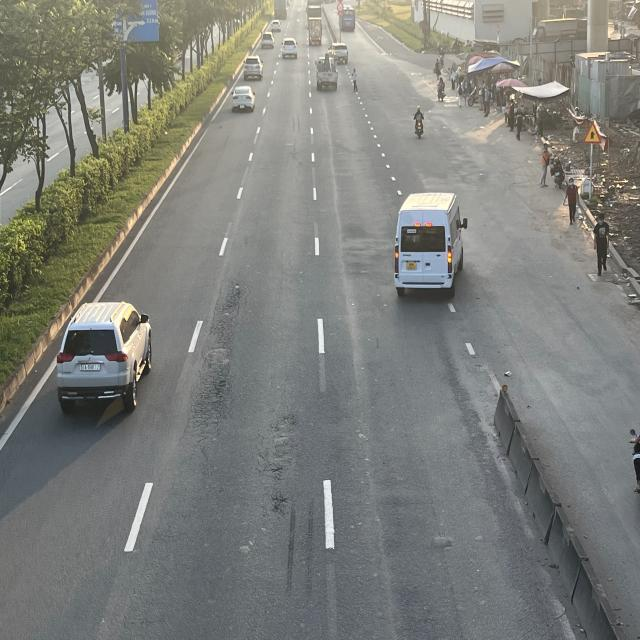car: (53, 299, 153, 419)
van: (393, 191, 468, 296)
